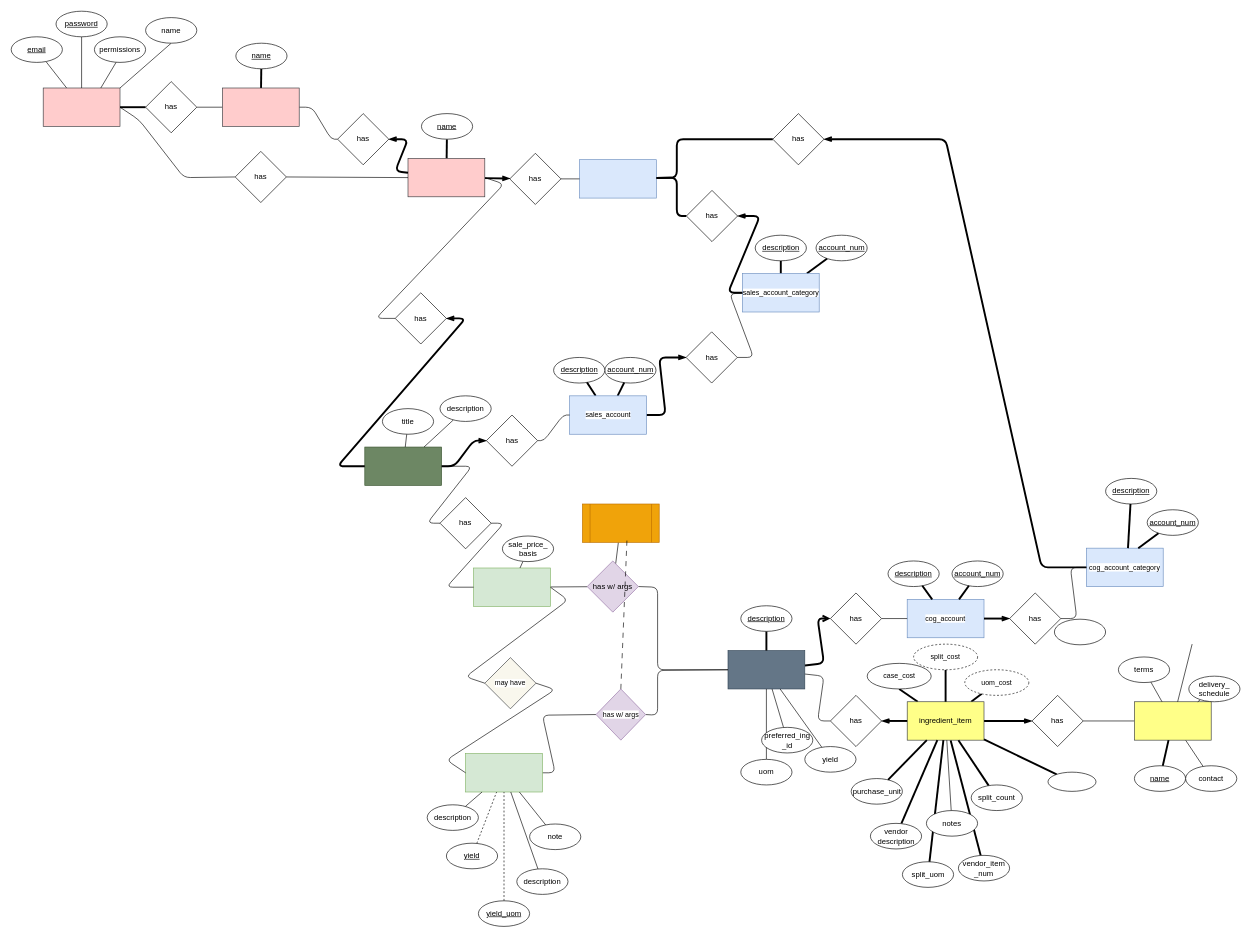
Some shapes in this 1251 by 938 pixel diagram are drawn without their labels. The centre of each missing label's shape, as x and y in pixels:
"case_count" belongs at [1071,781].
"chart_of_accounts" belongs at [617,178].
"company" belongs at [260,106].
"ingredient_type" belongs at [766,669].
"menu" belongs at [403,465].
"order_ schedule" belongs at [1080,632].
"recipe_nested" belongs at [503,772].
"recipe_plate" belongs at [511,586].
"store" belongs at [446,177].
"unsure how to represent this situation" belongs at [620,522].
"user" belongs at [81,106].
"vendor" belongs at [1172,720].
